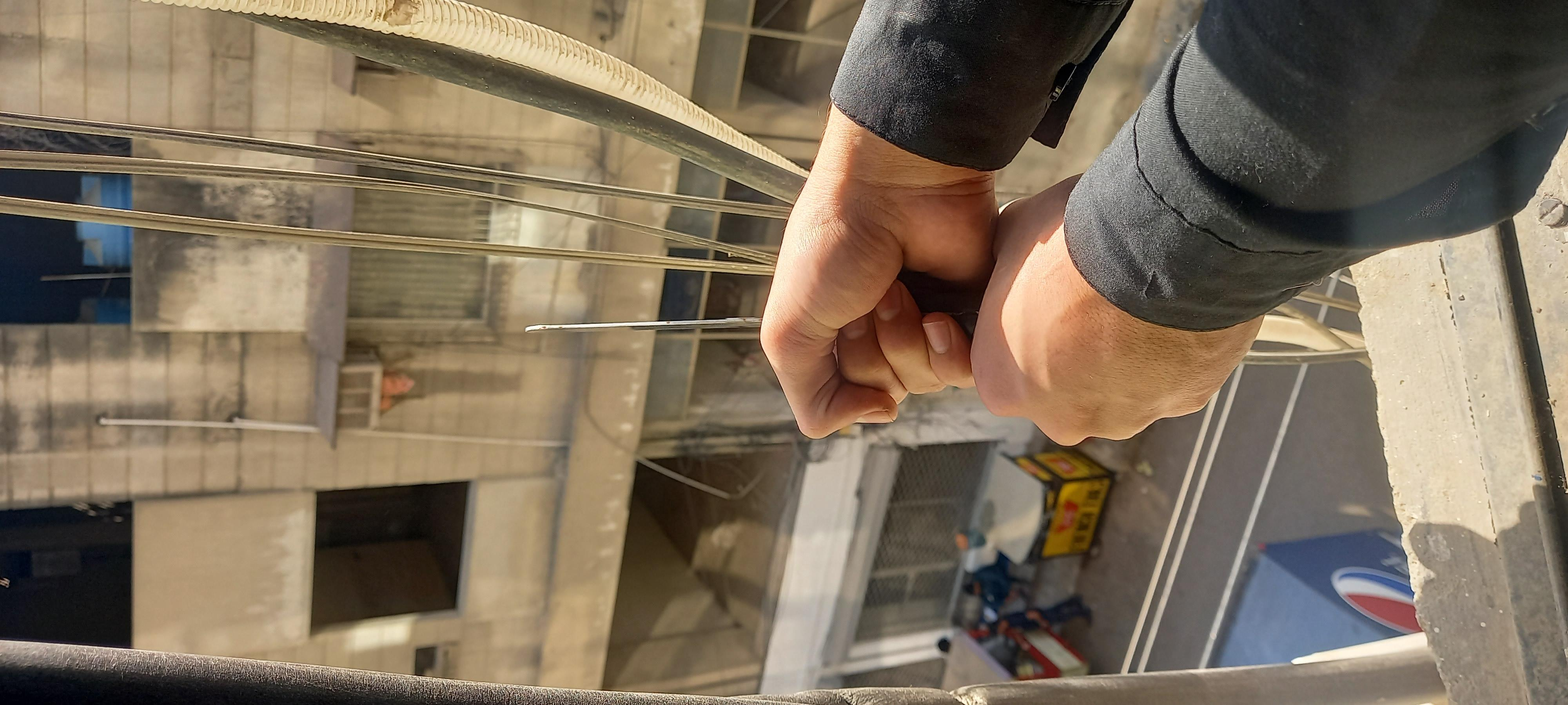knives: (784, 231, 939, 438)
